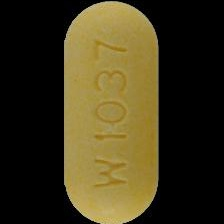0955-1037: (0, 0, 224, 224)
